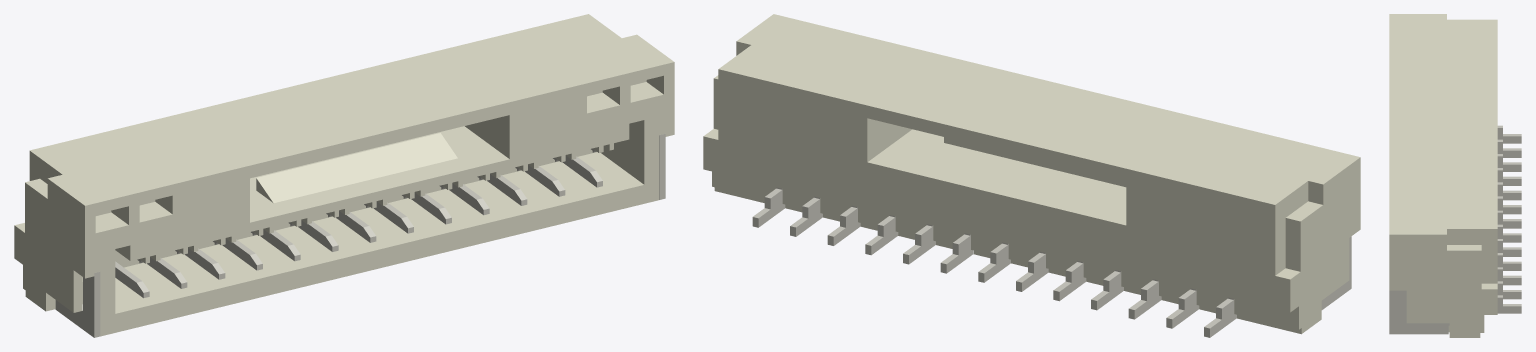
The model's file is kc-jst_gh_sm13b-ghs-tb_1x13-1mp_p1.25mm_horizontal.glb.
3 renders of one model, left to right at view 1: azimuth 30°, elevation 25°; view 2: azimuth 150°, elevation 25°; view 3: azimuth 270°, elevation 25°, orthographic. The views are drawn at different scales.
Visible parts, largest first — view 1: 0.75_0.75_0.5833333333333334_0, 0.6666666666666666_0.6666666666666666_0.5833333333333334_0.8; view 2: 0.75_0.75_0.5833333333333334_0, 0.6666666666666666_0.6666666666666666_0.5833333333333334_0.8; view 3: 0.75_0.75_0.5833333333333334_0, 0.6666666666666666_0.6666666666666666_0.5833333333333334_0.8.
Part boxes in pixels (box(x1,y1,x2,y2)): 0.75_0.75_0.5833333333333334_0: box(14, 14, 674, 336); 0.6666666666666666_0.6666666666666666_0.5833333333333334_0.8: box(55, 133, 665, 337); 0.75_0.75_0.5833333333333334_0: box(703, 14, 1360, 334); 0.6666666666666666_0.6666666666666666_0.5833333333333334_0.8: box(752, 187, 1351, 337); 0.75_0.75_0.5833333333333334_0: box(1389, 14, 1497, 337); 0.6666666666666666_0.6666666666666666_0.5833333333333334_0.8: box(1389, 125, 1521, 334).
Bounding box in the file's own units: 1.95 × 0.4249 × 0.495.
